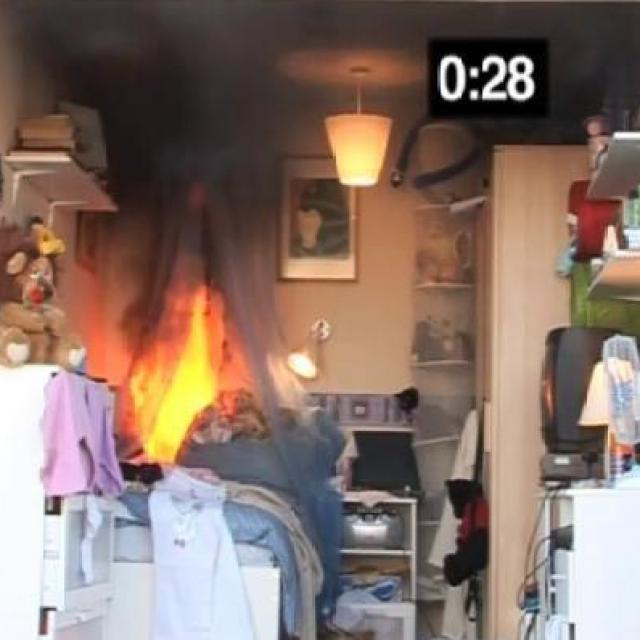fire: (22, 0, 312, 182)
smoke: (116, 277, 214, 464)
